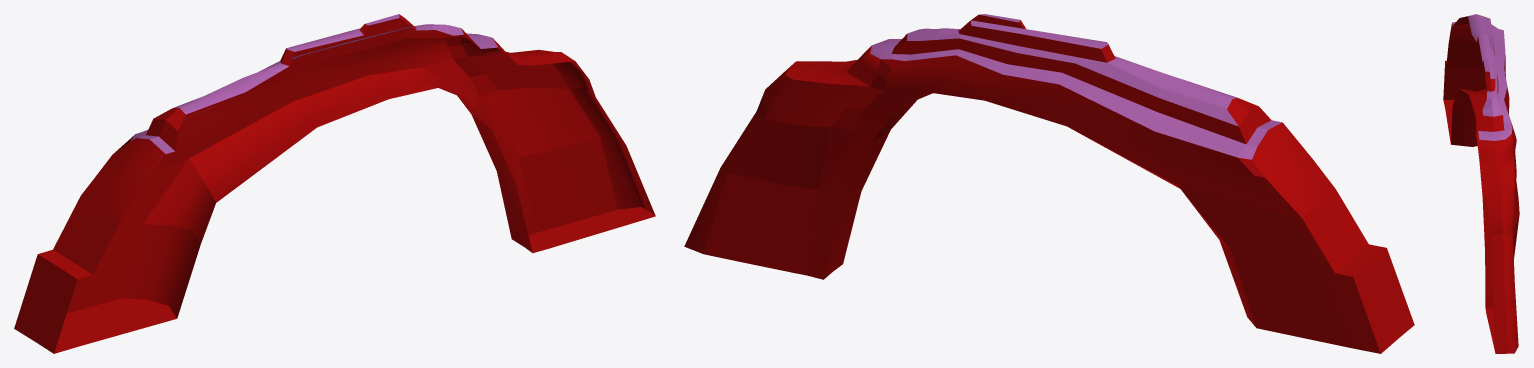
Rendered from StartMenu_ArchModel.fbx.
3 views of the same model, side by side, from view 1: azimuth 30°, elevation 25°; view 2: azimuth 150°, elevation 25°; view 3: azimuth 270°, elevation 25° (orthographic). The views are drawn at different scales.
Parts seen in each view (by area): view 1: pCube20; view 2: pCube20; view 3: pCube20.
Boxes of the visible parts, x1=… form: pCube20: x1=14, y1=14, x2=655, y2=353; pCube20: x1=684, y1=14, x2=1414, y2=353; pCube20: x1=1443, y1=14, x2=1519, y2=353.
Bounding box in the file's own units: 388 × 155 × 56.01.
